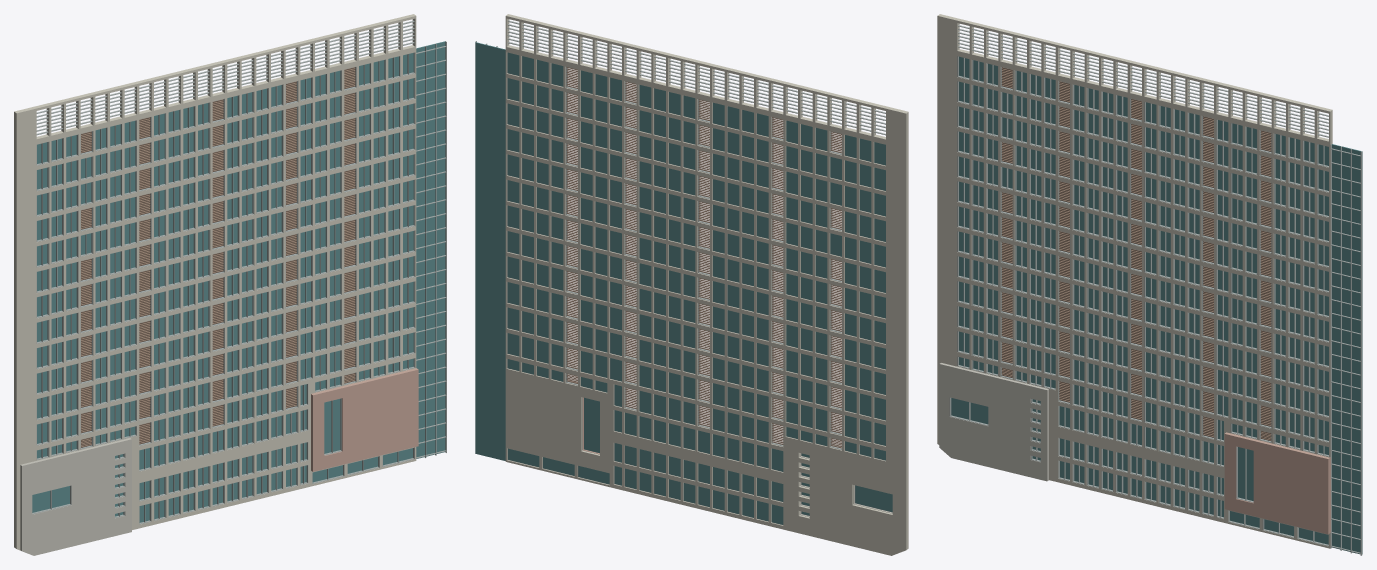
The model's file is light.glb.
3 views of the same model, side by side, from view 1: azimuth 30°, elevation 25°; view 2: azimuth 150°, elevation 25°; view 3: azimuth 330°, elevation 25° (orthographic). The views are drawn at different scales.
Visible parts, largest first — view 1: C_glazing_R00_C00, A_main_boolean_substrate, B_frame_R00_C00, C_louver_R00_C03, D_left_podium_boolean_panel, D_right_pink_boolean_panel; view 2: C_glazing_R00_C00, A_main_boolean_substrate, B_frame_R00_C00, C_louver_R00_C03; view 3: C_glazing_R00_C00, A_main_boolean_substrate, B_frame_R00_C00, C_louver_R00_C03, D_left_podium_boolean_panel, D_right_pink_boolean_panel.
Boxes of the visible parts, left/top/right/bottom form: C_glazing_R00_C00: left=32, top=41, right=445, bottom=522; A_main_boolean_substrate: left=14, top=14, right=416, bottom=550; B_frame_R00_C00: left=32, top=20, right=446, bottom=524; C_louver_R00_C03: left=81, top=67, right=355, bottom=447; D_left_podium_boolean_panel: left=20, top=438, right=131, bottom=555; D_right_pink_boolean_panel: left=311, top=368, right=418, bottom=471; C_glazing_R00_C00: left=475, top=42, right=892, bottom=524; A_main_boolean_substrate: left=505, top=14, right=908, bottom=555; B_frame_R00_C00: left=475, top=20, right=891, bottom=524; C_louver_R00_C03: left=566, top=67, right=841, bottom=448; C_glazing_R00_C00: left=951, top=56, right=1362, bottom=554; A_main_boolean_substrate: left=937, top=14, right=1332, bottom=548; B_frame_R00_C00: left=949, top=25, right=1362, bottom=555; C_louver_R00_C03: left=1001, top=67, right=1271, bottom=440; D_left_podium_boolean_panel: left=939, top=363, right=1048, bottom=481; D_right_pink_boolean_panel: left=1224, top=432, right=1330, bottom=534.
Size of the model in its own units: 29.42 by 29.05 by 0.5402.
